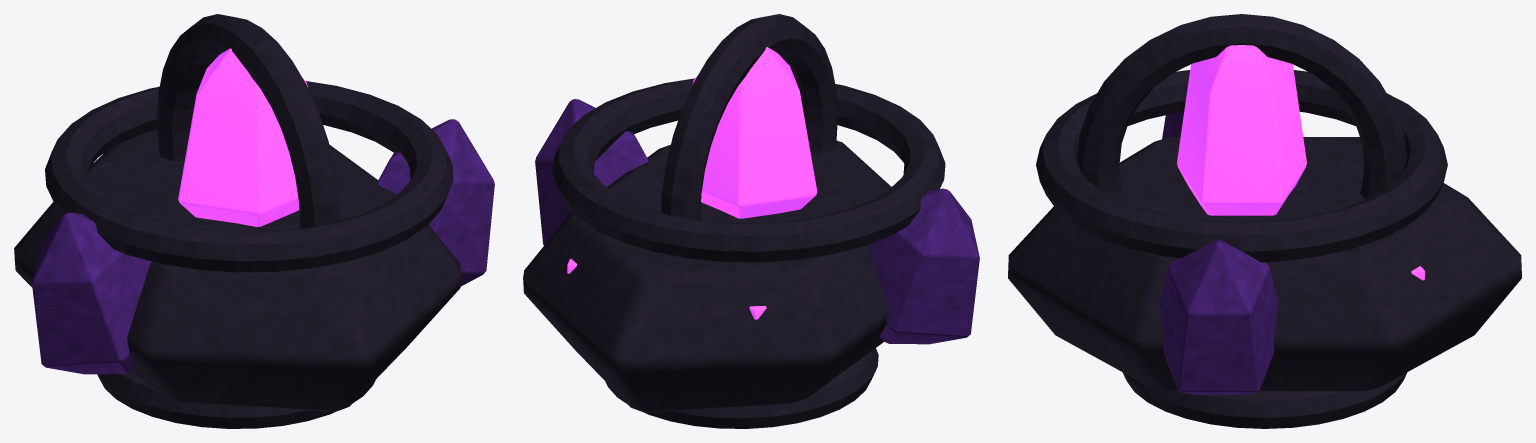
Rendered from conclave_veilleur.gltf.
The picture shows the model from 3 angles, left to right: view 1: azimuth 30°, elevation 25°; view 2: azimuth 150°, elevation 25°; view 3: azimuth 270°, elevation 25°; orthographic projection. The views are drawn at different scales.
Parts seen in each view (by area): view 1: Body.012_Geometry, Rotor_0.005_Geometry; view 2: Body.012_Geometry, Rotor_0.005_Geometry; view 3: Body.012_Geometry, Rotor_0.005_Geometry.
Part boxes in pixels (box(x1,y1,x2,y2)): Body.012_Geometry: box(14, 48, 494, 428); Rotor_0.005_Geometry: box(45, 14, 453, 272); Body.012_Geometry: box(523, 47, 979, 428); Rotor_0.005_Geometry: box(552, 14, 945, 262); Body.012_Geometry: box(1008, 45, 1521, 428); Rotor_0.005_Geometry: box(1036, 14, 1447, 262).
Size of the model in its own units: 1.8 by 1.38 by 1.78.
3 materials, 2 textured.
